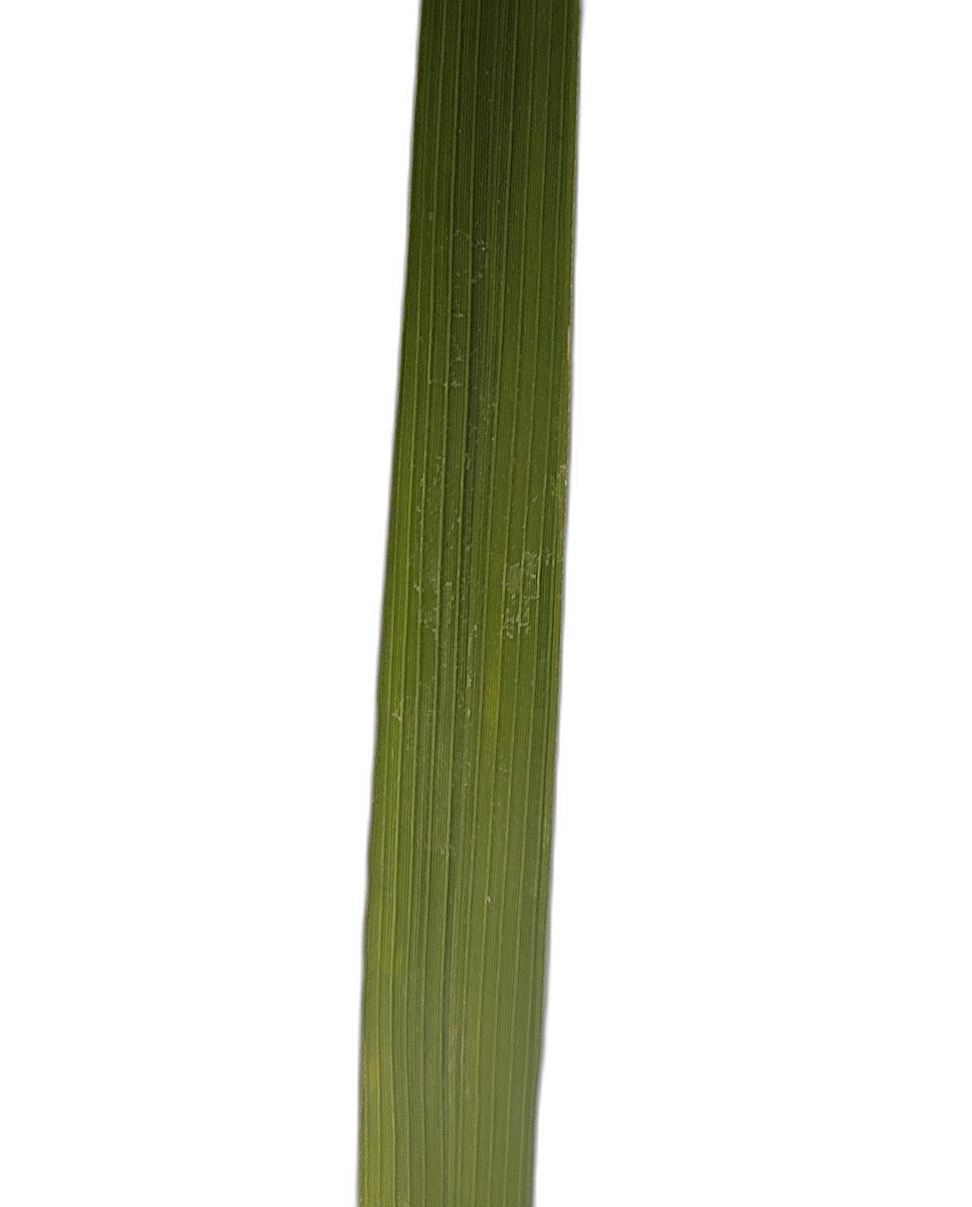Healthy: (360, 0, 579, 1206)
